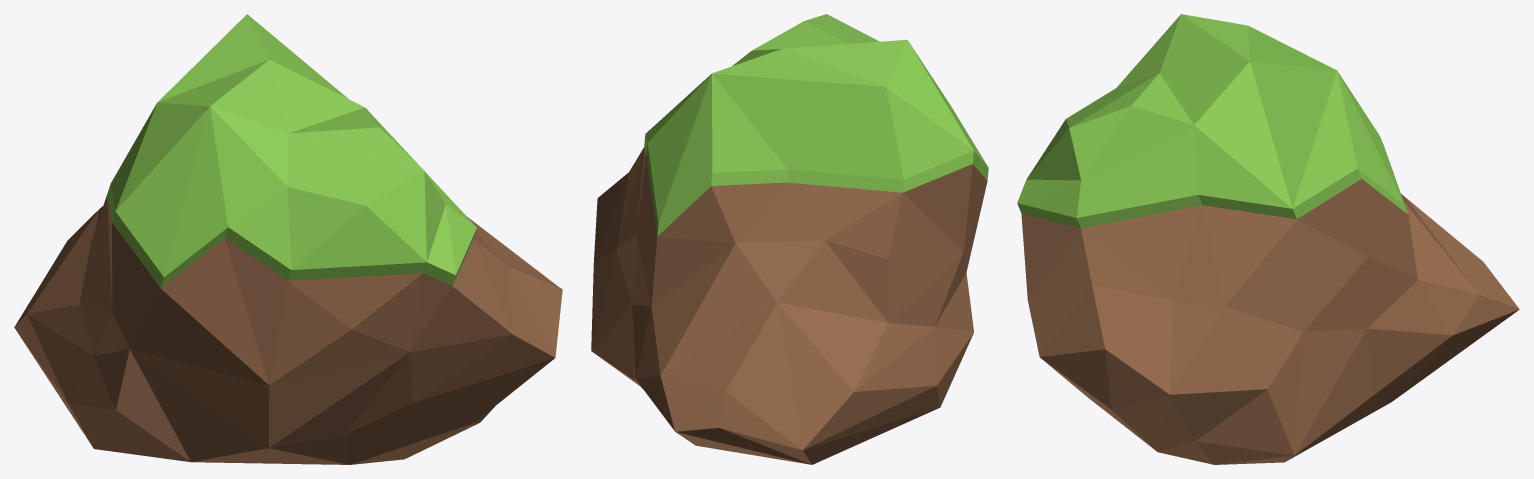
Rendered from rock01_top_grass_dirt.fbx.
The picture shows the model from 3 angles, left to right: view 1: azimuth 30°, elevation 25°; view 2: azimuth 150°, elevation 25°; view 3: azimuth 270°, elevation 25°; orthographic projection. The views are drawn at different scales.
Visible parts, largest first — view 1: rock01_top_grass_dirt_LOD0; view 2: rock01_top_grass_dirt_LOD0; view 3: rock01_top_grass_dirt_LOD0.
Part boxes in pixels (box(x1,y1,x2,y2)): rock01_top_grass_dirt_LOD0: box(14, 14, 562, 464); rock01_top_grass_dirt_LOD0: box(591, 14, 988, 464); rock01_top_grass_dirt_LOD0: box(1017, 14, 1519, 464).
Size of what is drawn, in the model's own units: 159 by 140 by 182.
